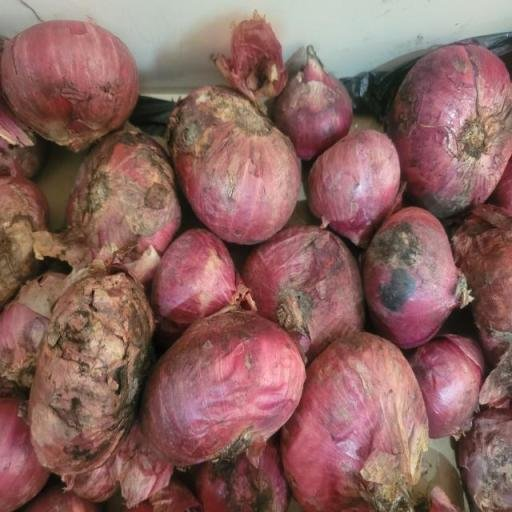healthy: (283, 332, 441, 512), (304, 123, 407, 248), (404, 334, 488, 446), (149, 230, 255, 318)
